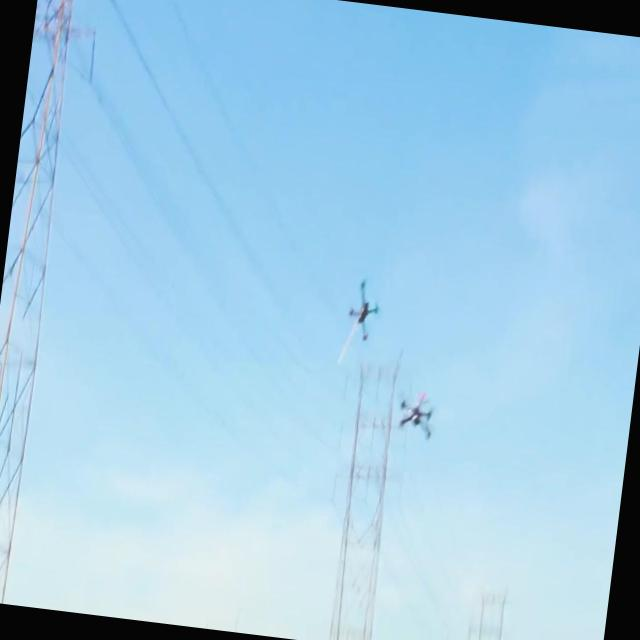drone: (343, 273, 384, 344), (396, 387, 436, 444)
